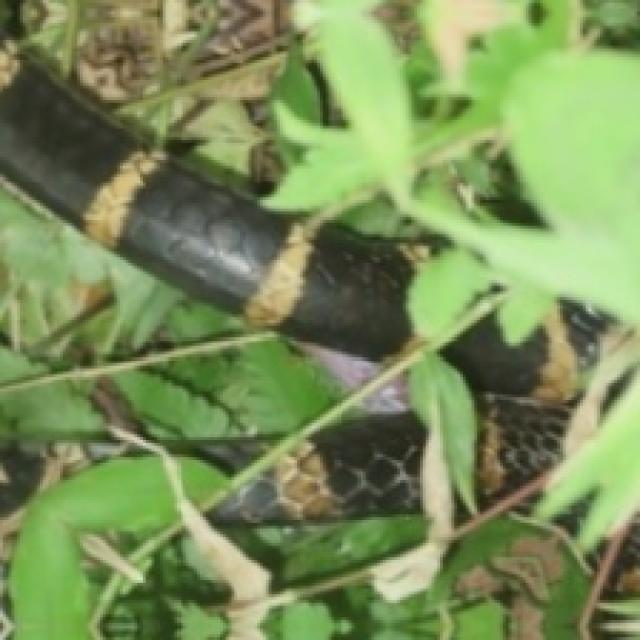king cobra: (0, 0, 637, 637), (437, 297, 609, 514), (443, 297, 606, 514), (246, 203, 431, 389), (249, 220, 431, 389), (103, 157, 266, 320), (297, 377, 426, 511), (306, 377, 426, 511)
